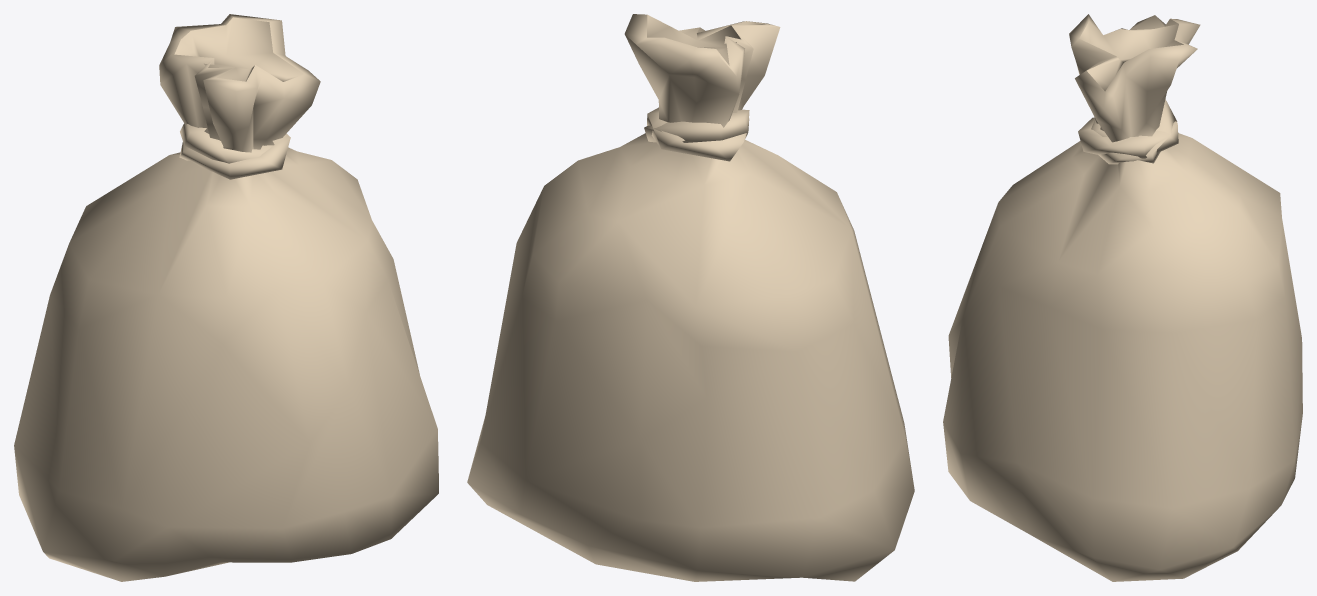
File: bag3.glb
The picture shows the model from 3 angles, left to right: view 1: azimuth 30°, elevation 25°; view 2: azimuth 150°, elevation 25°; view 3: azimuth 270°, elevation 25°; orthographic projection. The views are drawn at different scales.
Parts seen in each view (by area): view 1: k_sack_kit; view 2: k_sack_kit; view 3: k_sack_kit.
Boxes of the visible parts, x1,y1,x2,y2 form: k_sack_kit: [14, 14, 438, 581]; k_sack_kit: [467, 14, 914, 581]; k_sack_kit: [943, 14, 1302, 581].
Size of the model in its own units: 0.3771 by 0.46 by 0.3134.
